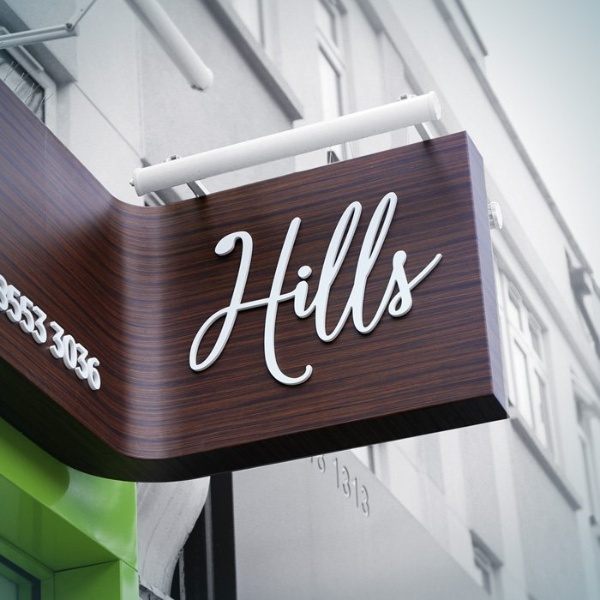text: (193, 179, 208, 388), (209, 179, 224, 388), (225, 179, 240, 388), (241, 179, 256, 388), (257, 179, 272, 388), (273, 179, 288, 388), (289, 179, 304, 388), (305, 179, 320, 388), (321, 179, 336, 388), (337, 179, 352, 388), (353, 179, 368, 388), (369, 179, 384, 388), (385, 179, 400, 388), (401, 179, 416, 388), (417, 179, 432, 388), (433, 179, 445, 388), (17, 274, 32, 399), (33, 274, 48, 399), (49, 274, 64, 399), (65, 274, 80, 399), (81, 274, 96, 399), (185, 179, 192, 388), (7, 274, 16, 399), (337, 451, 352, 523), (353, 451, 368, 523), (97, 274, 104, 399), (3, 269, 16, 318), (331, 451, 336, 523), (369, 451, 373, 523), (321, 448, 328, 481), (315, 448, 320, 481)
